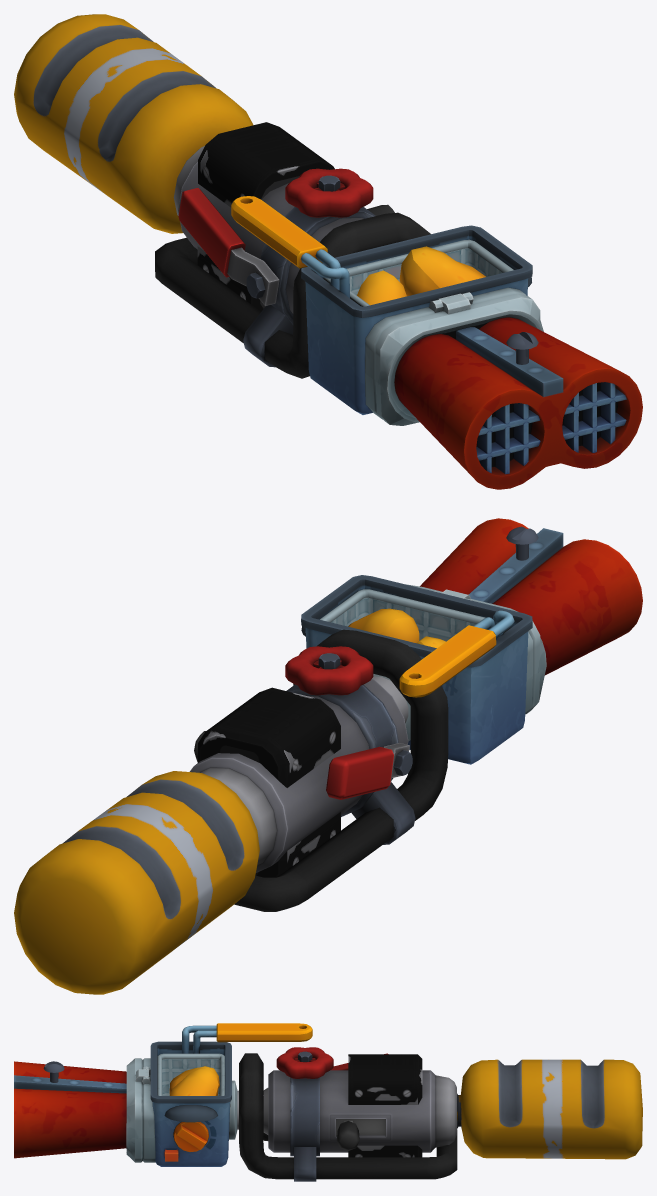
Rendered from fant_mountableshotgun_1.obj.
The picture shows the model from 3 angles, top to bottom: view 1: azimuth 30°, elevation 25°; view 2: azimuth 150°, elevation 25°; view 3: azimuth 270°, elevation 25°; orthographic projection. The views are drawn at different scales.
Visible parts, largest first — view 1: fant_mountable_shoutgun_Mesh; view 2: fant_mountable_shoutgun_Mesh; view 3: fant_mountable_shoutgun_Mesh.
Part boxes in pixels (x1,y1,x2,y2): fant_mountable_shoutgun_Mesh: (14, 14, 642, 489); fant_mountable_shoutgun_Mesh: (14, 518, 642, 994); fant_mountable_shoutgun_Mesh: (14, 1023, 642, 1181).
Bounding box in the file's own units: 1.43 × 1.1 × 5.77.
